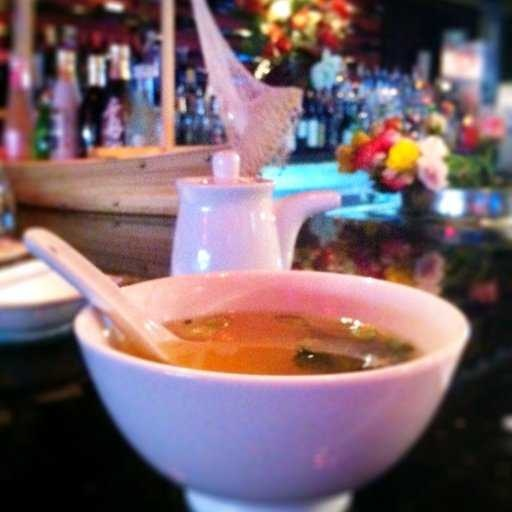soup: (63, 257, 468, 412)
